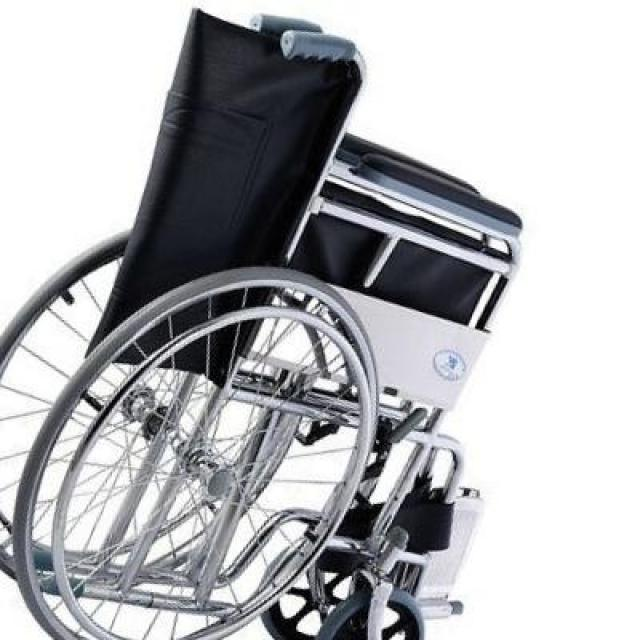wheelchair: (0, 1, 533, 640)
